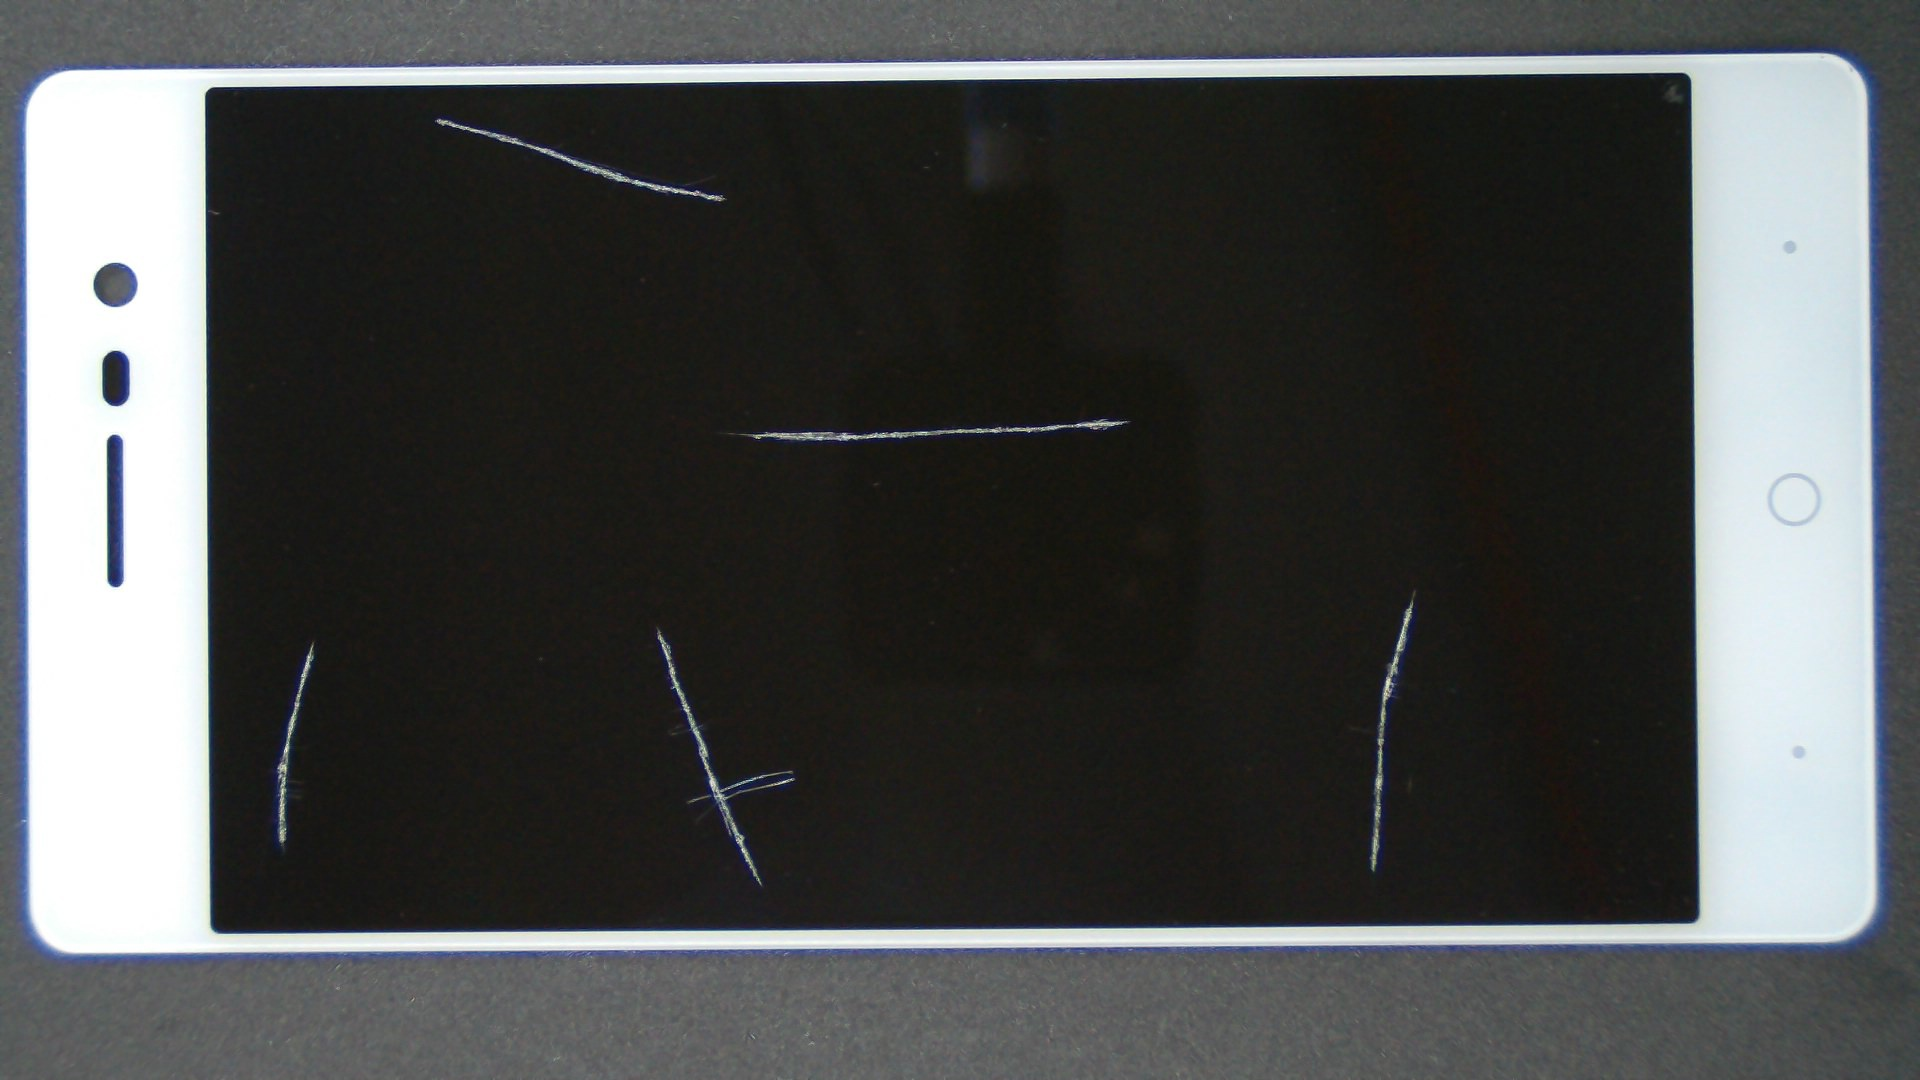oil: (707, 294, 1920, 884), (551, 208, 1648, 628), (330, 313, 986, 940), (156, 319, 468, 960), (218, 58, 654, 178)
